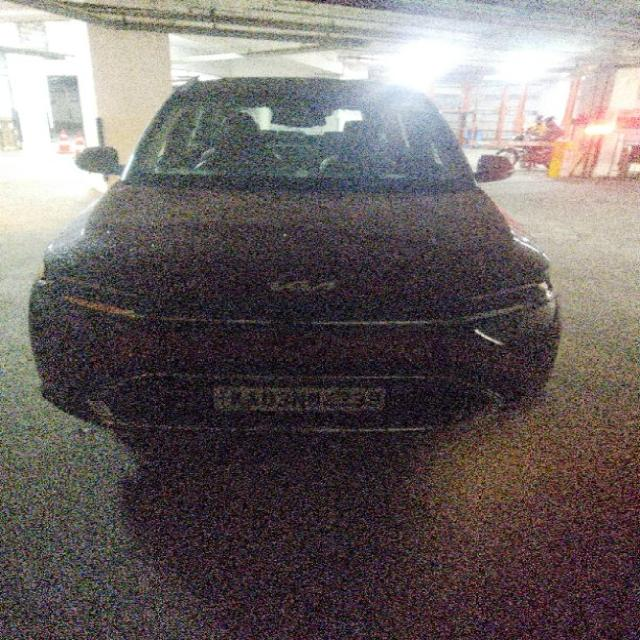license_plate: (27, 75, 563, 452), (208, 376, 444, 416)
